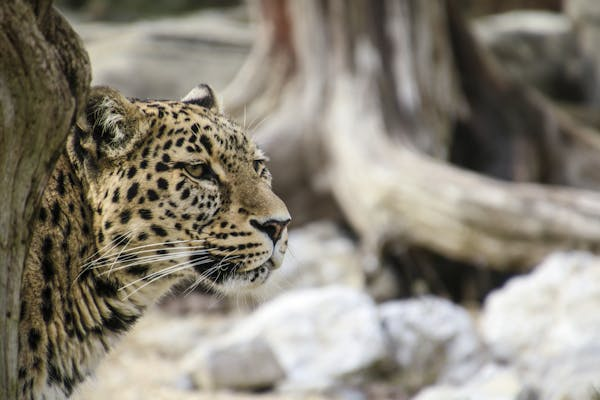Leopard: (18, 84, 293, 400)
